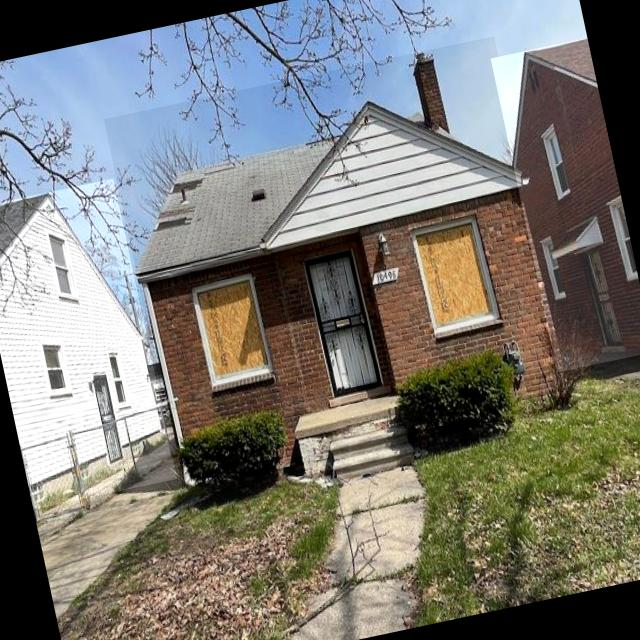House: (103, 36, 572, 490), (0, 178, 177, 509), (490, 37, 640, 372)
